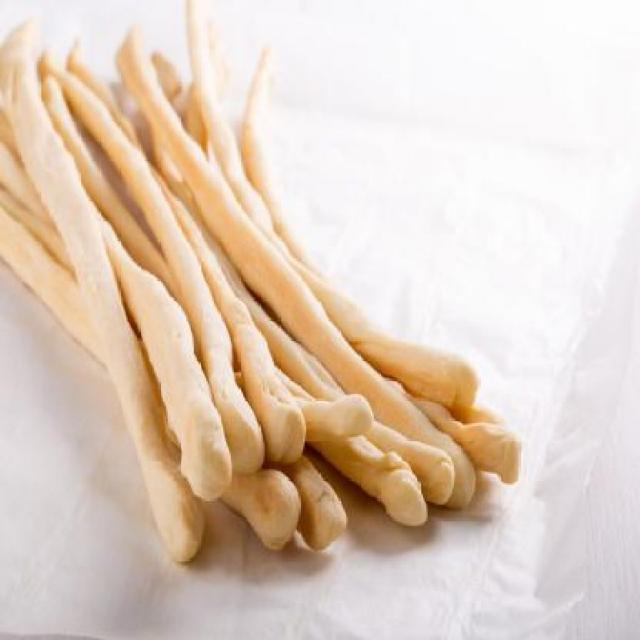Grissini: (10, 22, 524, 560)
